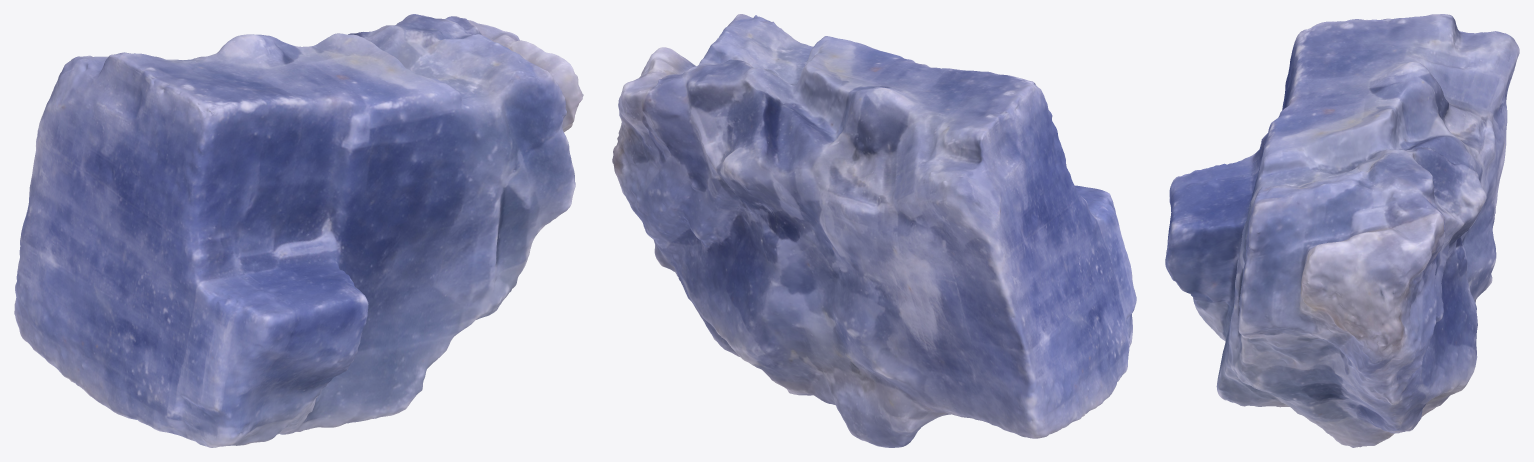
The model's file is mineral_calcite_blue.glb.
3 views of the same model, side by side, from view 1: azimuth 30°, elevation 25°; view 2: azimuth 150°, elevation 25°; view 3: azimuth 270°, elevation 25° (orthographic). The views are drawn at different scales.
Visible parts, largest first — view 1: Object_2, Object_3; view 2: Object_2, Object_3; view 3: Object_3, Object_2.
Part boxes in pixels (box(x1,y1,x2,y2)): Object_2: box(14, 14, 583, 447); Object_3: box(214, 14, 583, 427); Object_2: box(618, 14, 1136, 447); Object_3: box(612, 14, 991, 411); Object_3: box(1166, 47, 1491, 447); Object_2: box(1165, 14, 1519, 410).
Size of the model in its own units: 0.6871 by 0.4761 by 0.4519.
Materials: 1 (1 with a texture image).
